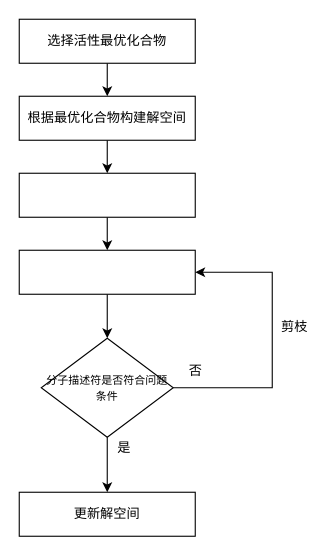
Image size: 336x556. Some labels were removed from this diagram. The shapes that lost their labels are listed below. From the top down, each one's centre as x and y in pixels, then its label:
(x=106, y=194): 根据解空间构建搜索树
(x=106, y=271): 使用回溯法搜索解空间
